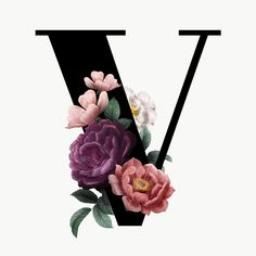v: (27, 14, 227, 238)
